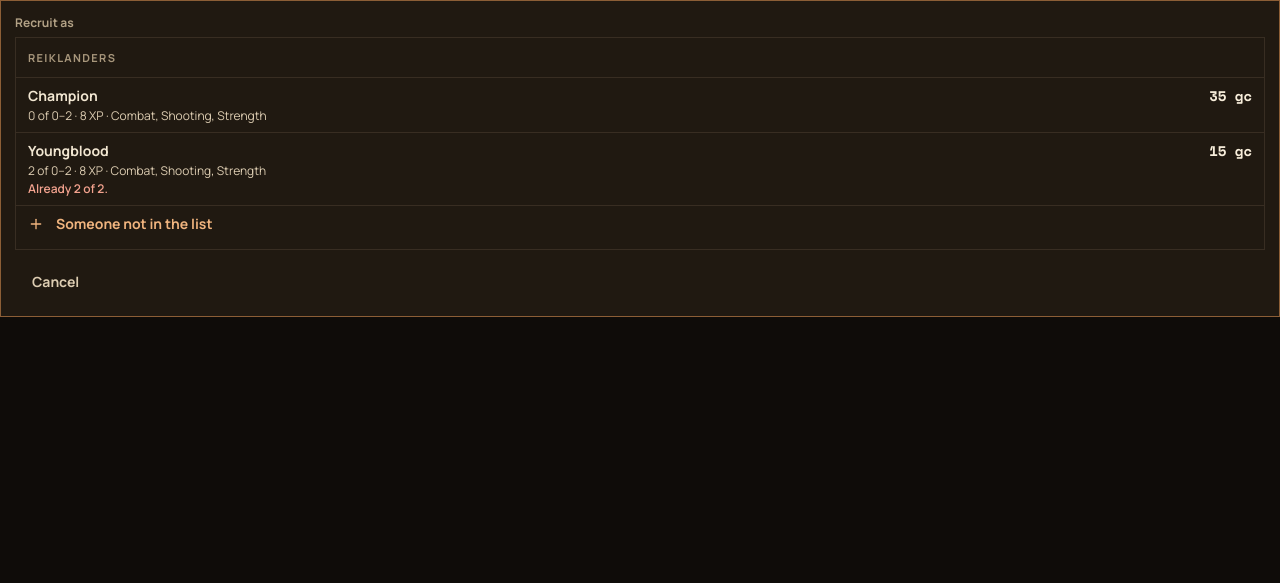
Test: Recruiting from the warband's template › tallies a workshop warband's running cost rather than its gold
Click the radio button labelled "Champion 0 of 0–2 · 8 XP · Combat, Shooting, Strength 35 gc". click: [63, 95]
box: [16, 76, 1264, 132]
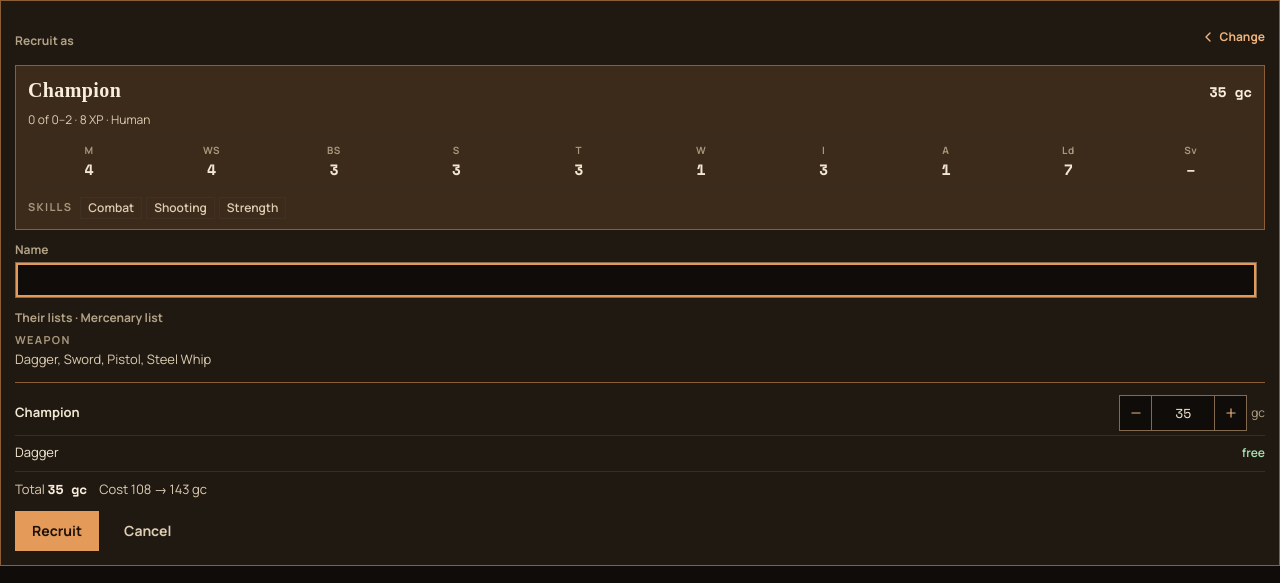
Check: the text "Cost 108 → 143 gc" is shown, box [99, 480, 207, 499]
